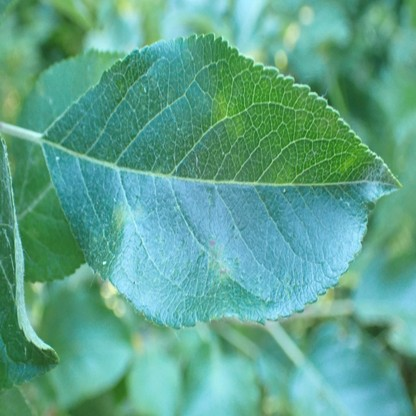powdery_mildew: (362, 158, 388, 197)
scab: (206, 239, 228, 283), (113, 203, 144, 228)
